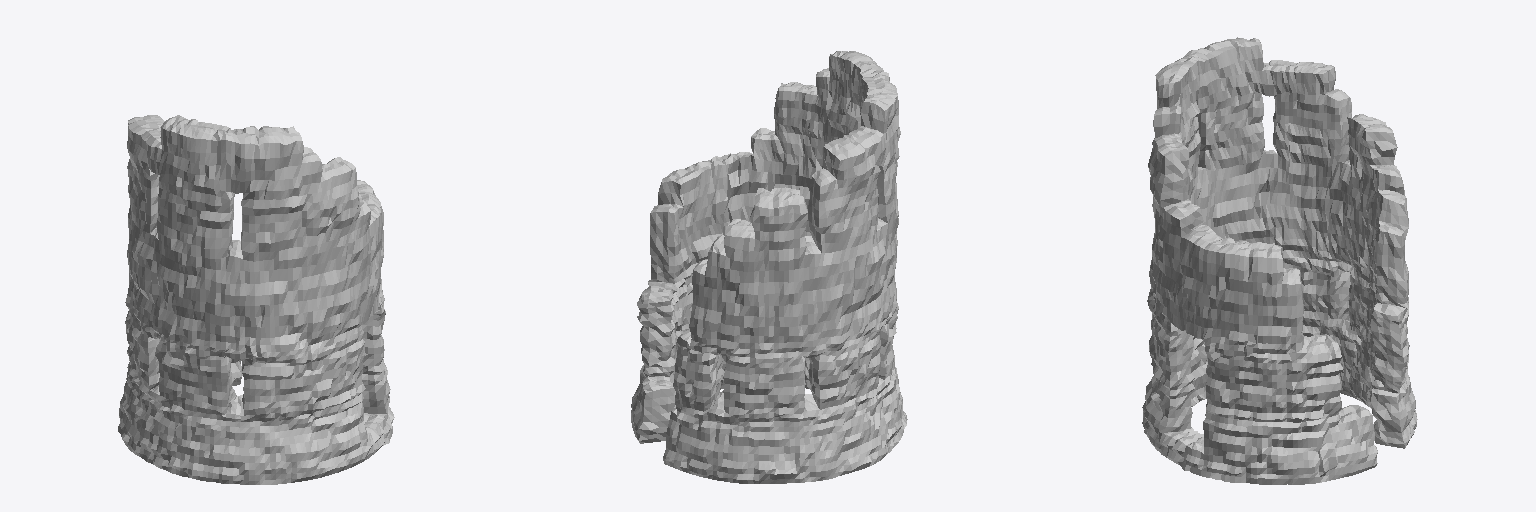
Rendered from old tower 1.obj.
The picture shows the model from 3 angles: view 1: azimuth 30°, elevation 25°; view 2: azimuth 150°, elevation 25°; view 3: azimuth 270°, elevation 25°; orthographic projection.
Parts seen in each view (by area): view 1: pack_oldtowers; view 2: pack_oldtowers; view 3: pack_oldtowers.
Part boxes in pixels (left/top/right/bottom): pack_oldtowers: left=118, top=115, right=394, bottom=484; pack_oldtowers: left=631, top=51, right=907, bottom=483; pack_oldtowers: left=1142, top=37, right=1417, bottom=484.
Size of the model in its own units: 45.63 by 63.21 by 45.43.